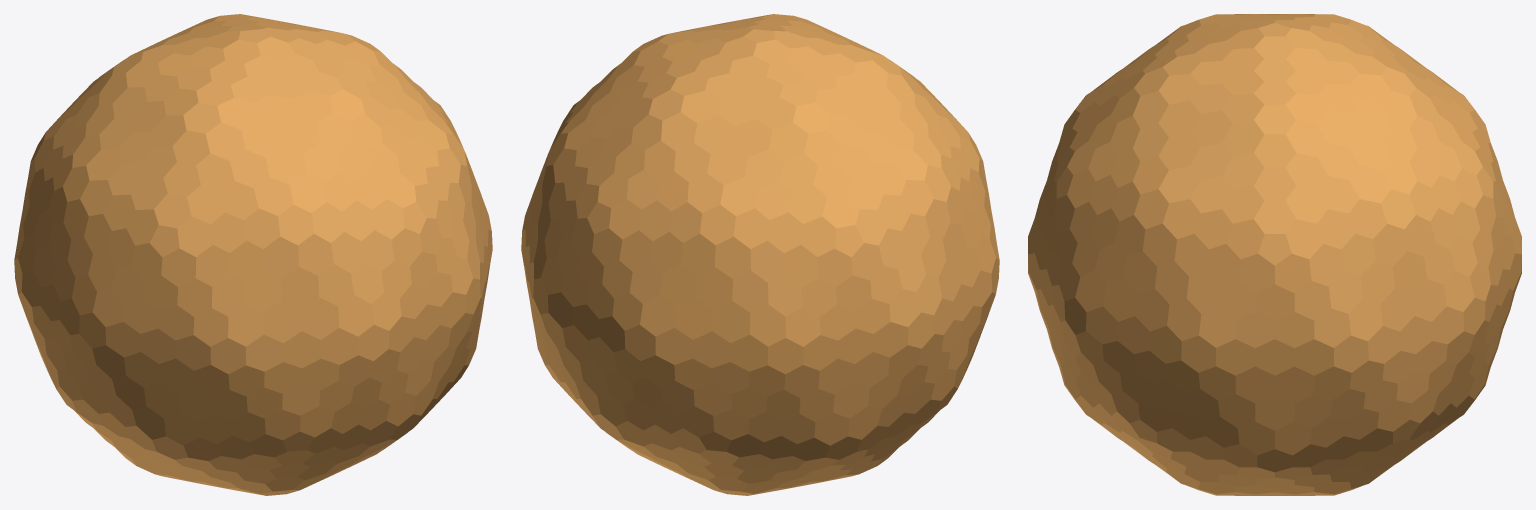
The model's file is honeycomb.glb.
3 renders of one model, left to right at view 1: azimuth 30°, elevation 25°; view 2: azimuth 150°, elevation 25°; view 3: azimuth 270°, elevation 25°, orthographic. The views are drawn at different scales.
Parts seen in each view (by area): view 1: Icosphere.001; view 2: Icosphere.001; view 3: Icosphere.001.
Boxes of the visible parts, x1=… form: Icosphere.001: x1=14, y1=14, x2=492, y2=495; Icosphere.001: x1=521, y1=14, x2=999, y2=495; Icosphere.001: x1=1028, y1=14, x2=1521, y2=495.
Bounding box in the file's own units: 18.91 × 19.47 × 19.39.
